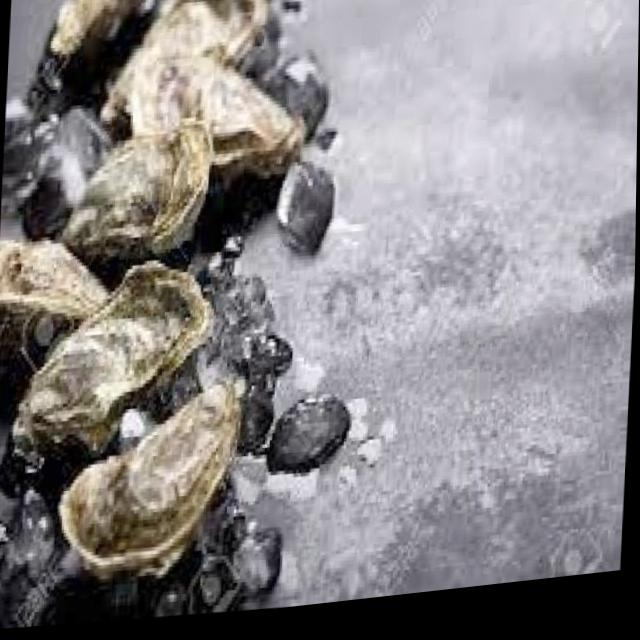Oyster-Closed: (62, 124, 214, 248), (179, 67, 304, 179), (42, 0, 155, 59)
Oyster-Indeterminate: (55, 382, 244, 580), (20, 264, 210, 440), (102, 0, 270, 136), (0, 237, 114, 318)
